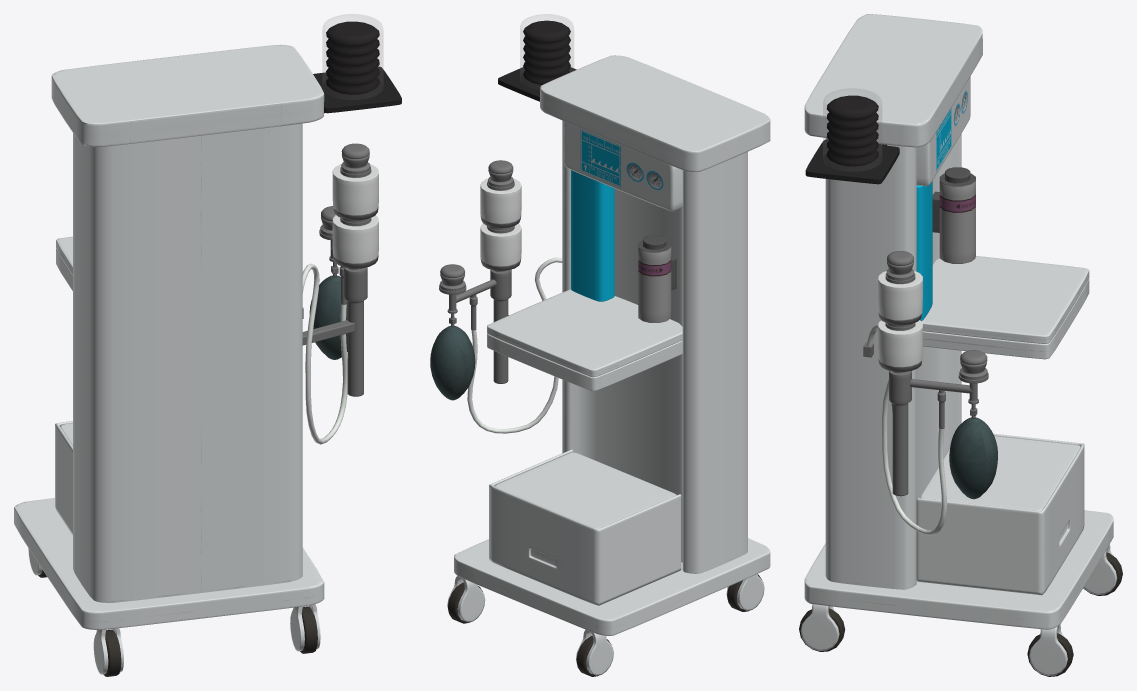
Rendered from anest.obj.
The picture shows the model from 3 angles, left to right: view 1: azimuth 30°, elevation 25°; view 2: azimuth 150°, elevation 25°; view 3: azimuth 270°, elevation 25°; orthographic projection. The views are drawn at different scales.
Parts seen in each view (by area): view 1: OT_Anesthesia_Machine_OT_Anesthesia_Machine-geom; view 2: OT_Anesthesia_Machine_OT_Anesthesia_Machine-geom; view 3: OT_Anesthesia_Machine_OT_Anesthesia_Machine-geom.
Part boxes in pixels (box(x1,y1,x2,y2)): OT_Anesthesia_Machine_OT_Anesthesia_Machine-geom: box(14, 14, 401, 676); OT_Anesthesia_Machine_OT_Anesthesia_Machine-geom: box(430, 14, 770, 676); OT_Anesthesia_Machine_OT_Anesthesia_Machine-geom: box(799, 14, 1122, 676).
Bounding box in the file's own units: 0.8292 × 1.45 × 0.733.
6 materials, 5 textured.
